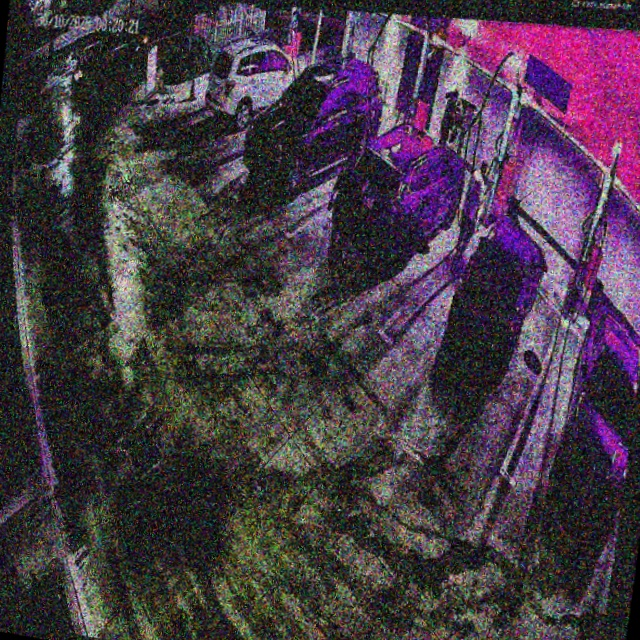Car: (239, 45, 389, 209), (339, 118, 471, 274), (438, 211, 553, 382)
